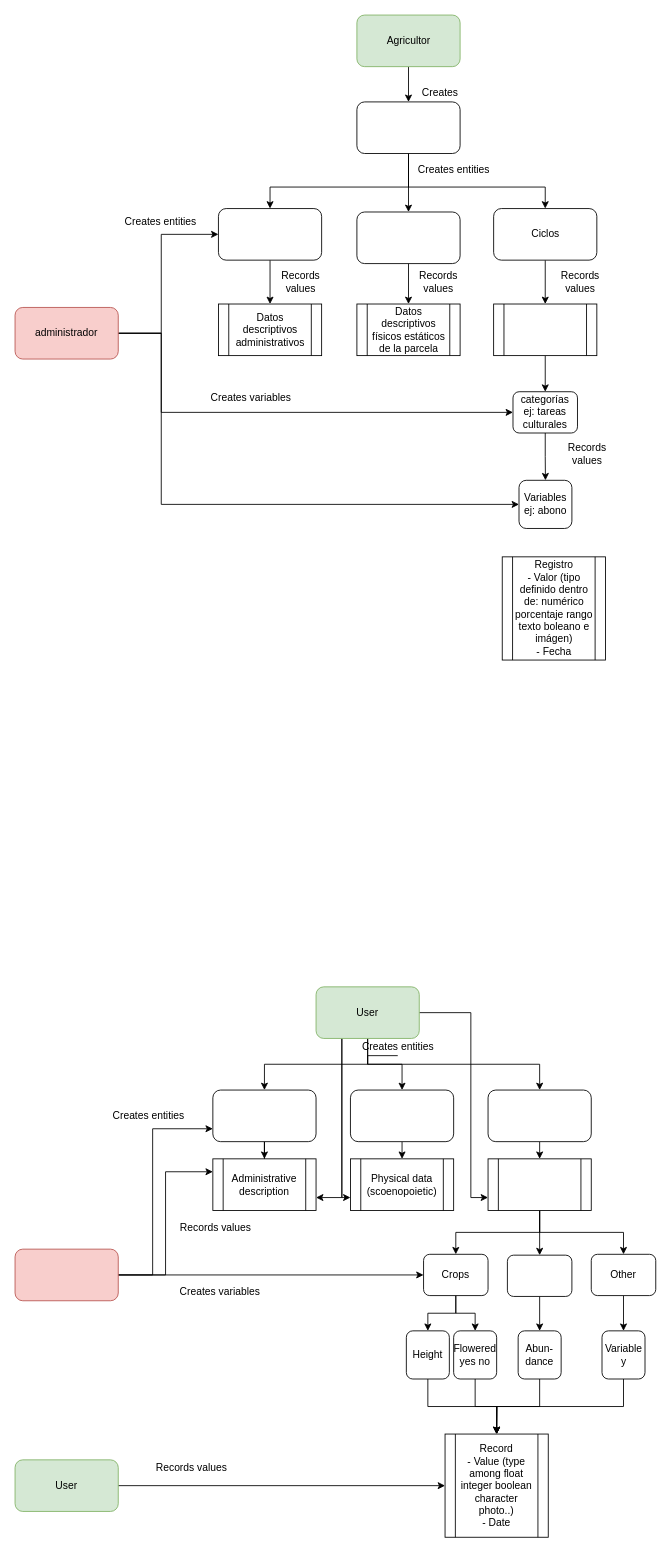
The diagram is 671 pixels wide and 1552 high, and some of its shapes have lost their labels. The shapes that lost their labels are listed below. From the top down, each one's box as (x1, y1, x2, y2) in pixels, then its label:
(356, 101, 460, 154): Cuenta
(218, 208, 322, 260): Finca
(356, 211, 460, 264): Parcela
(493, 303, 597, 356): Datos dinámicos una especie
(212, 1089, 316, 1142): Farm
(350, 1089, 454, 1142): Field
(487, 1089, 591, 1142): Cycles
(487, 1158, 591, 1210): Dynamical data (bionomic)
(14, 1248, 118, 1301): Administrator
(507, 1254, 572, 1296): Weeds
